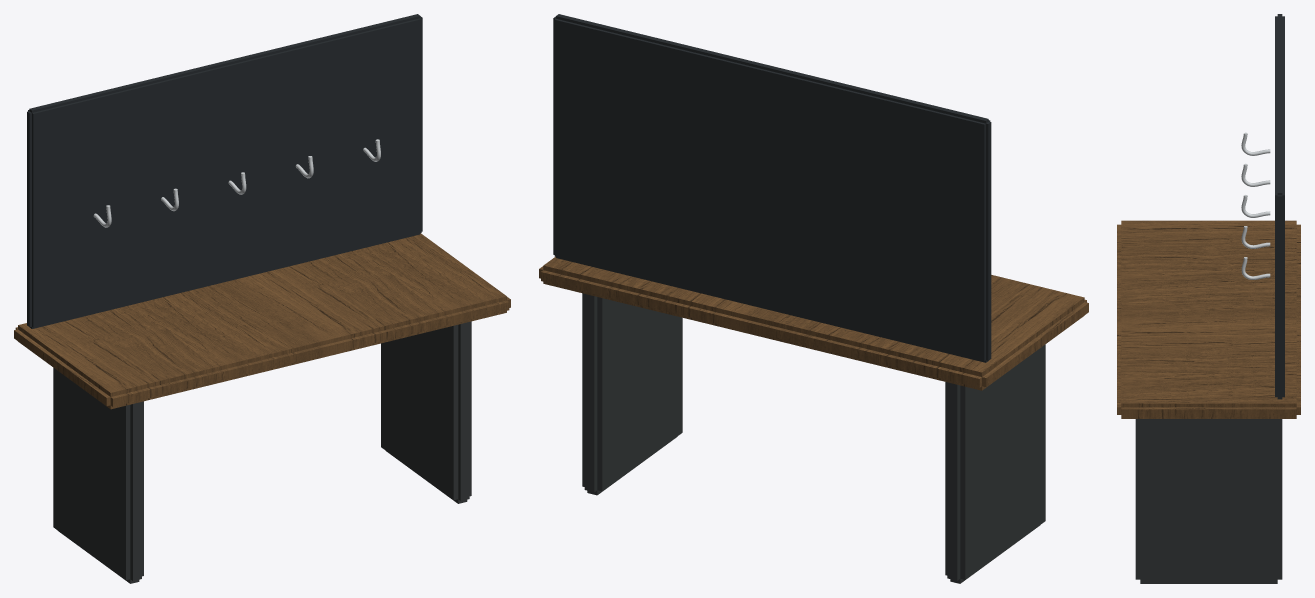
The model's file is fixture_v24_repair_bench.glb.
3 renders of one model, left to right at view 1: azimuth 30°, elevation 25°; view 2: azimuth 150°, elevation 25°; view 3: azimuth 270°, elevation 25°, orthographic. The views are drawn at different scales.
Parts seen in each view (by area): view 1: fixture_v24_repair_bench_V24_satin_black, fixture_v24_repair_bench_CC0_Oak_veneer, fixture_v24_repair_bench_Anodised_graphite, fixture_v24_repair_bench_V24_brushed_silver; view 2: fixture_v24_repair_bench_V24_satin_black, fixture_v24_repair_bench_Anodised_graphite, fixture_v24_repair_bench_CC0_Oak_veneer; view 3: fixture_v24_repair_bench_CC0_Oak_veneer, fixture_v24_repair_bench_Anodised_graphite, fixture_v24_repair_bench_V24_satin_black, fixture_v24_repair_bench_V24_brushed_silver.
Part boxes in pixels (bbox=[...]): fixture_v24_repair_bench_V24_satin_black: bbox=[27, 14, 422, 328]; fixture_v24_repair_bench_CC0_Oak_veneer: bbox=[14, 233, 510, 409]; fixture_v24_repair_bench_Anodised_graphite: bbox=[53, 321, 471, 583]; fixture_v24_repair_bench_V24_brushed_silver: bbox=[93, 139, 380, 227]; fixture_v24_repair_bench_V24_satin_black: bbox=[553, 14, 991, 362]; fixture_v24_repair_bench_Anodised_graphite: bbox=[582, 293, 1045, 583]; fixture_v24_repair_bench_CC0_Oak_veneer: bbox=[539, 256, 1088, 390]; fixture_v24_repair_bench_CC0_Oak_veneer: bbox=[1117, 220, 1300, 418]; fixture_v24_repair_bench_Anodised_graphite: bbox=[1135, 419, 1282, 583]; fixture_v24_repair_bench_V24_satin_black: bbox=[1275, 14, 1284, 399]; fixture_v24_repair_bench_V24_brushed_silver: bbox=[1241, 132, 1270, 279].
Bounding box in the file's own units: 1.8 × 1.82 × 0.75.
Materials: 4 (1 with a texture image).
